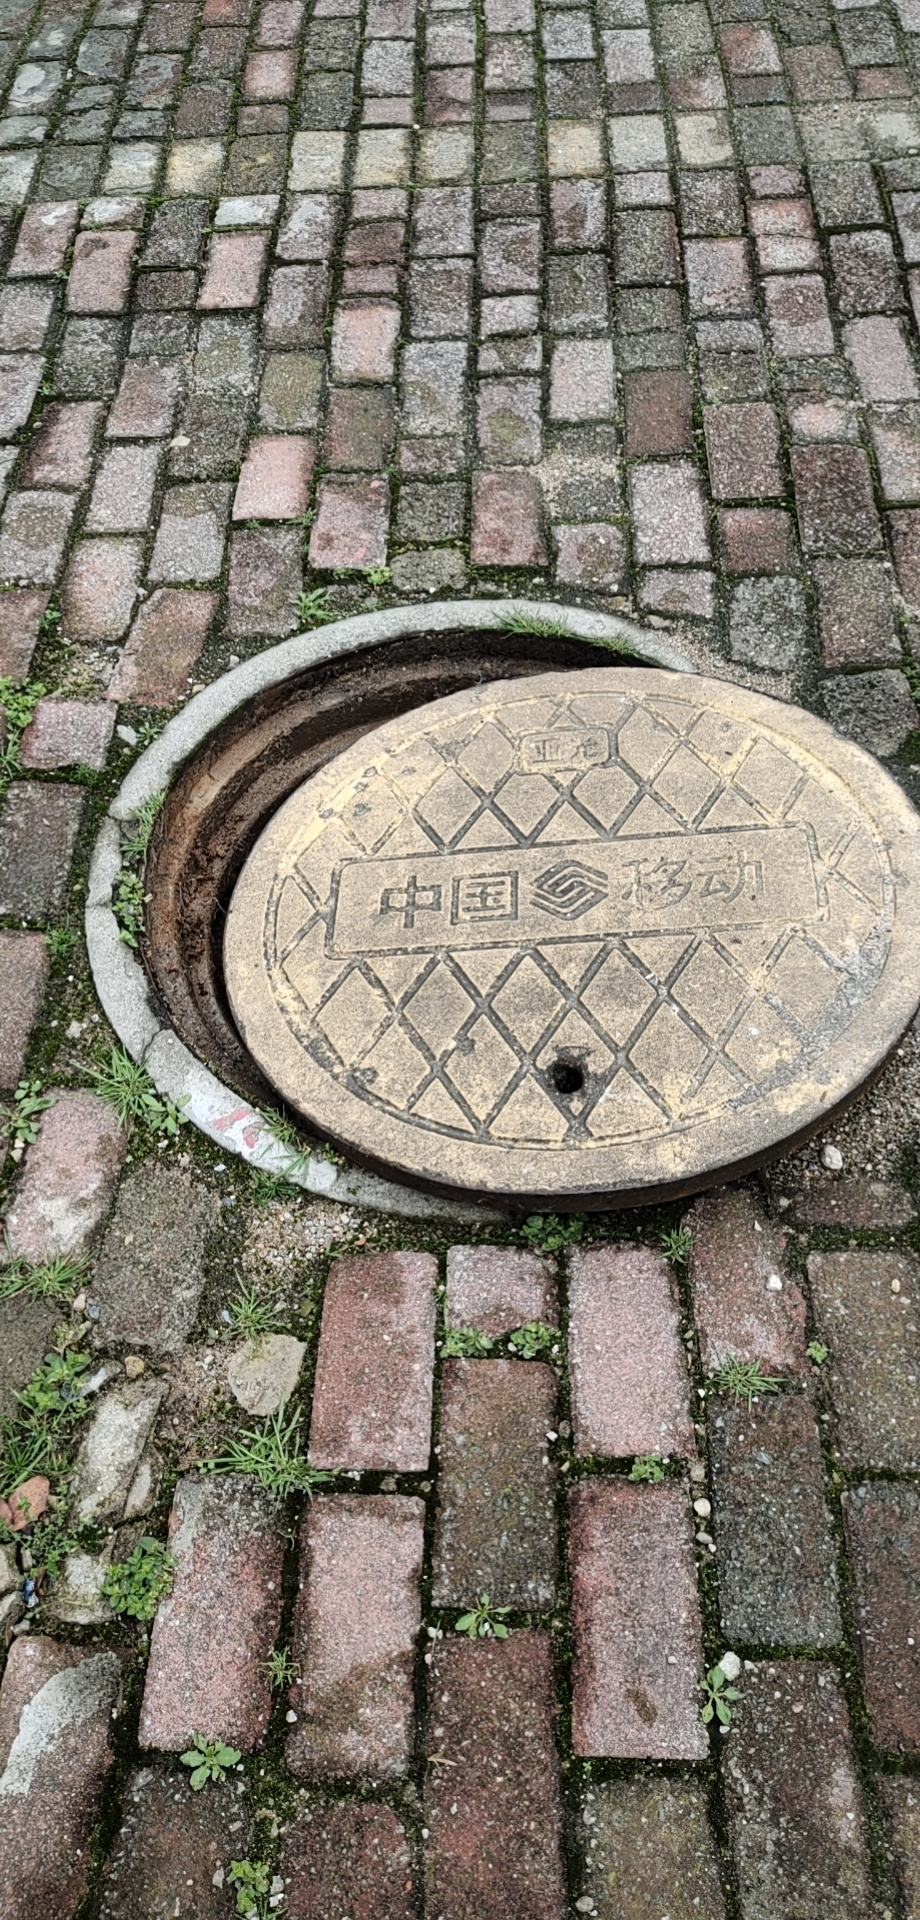uncovered: (83, 602, 920, 1217)
